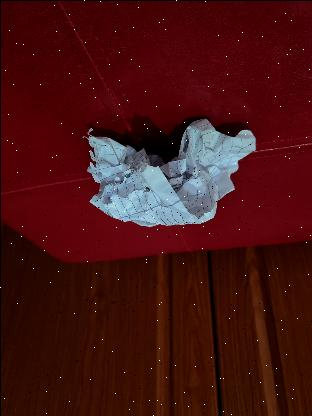Others: (86, 116, 252, 226)
